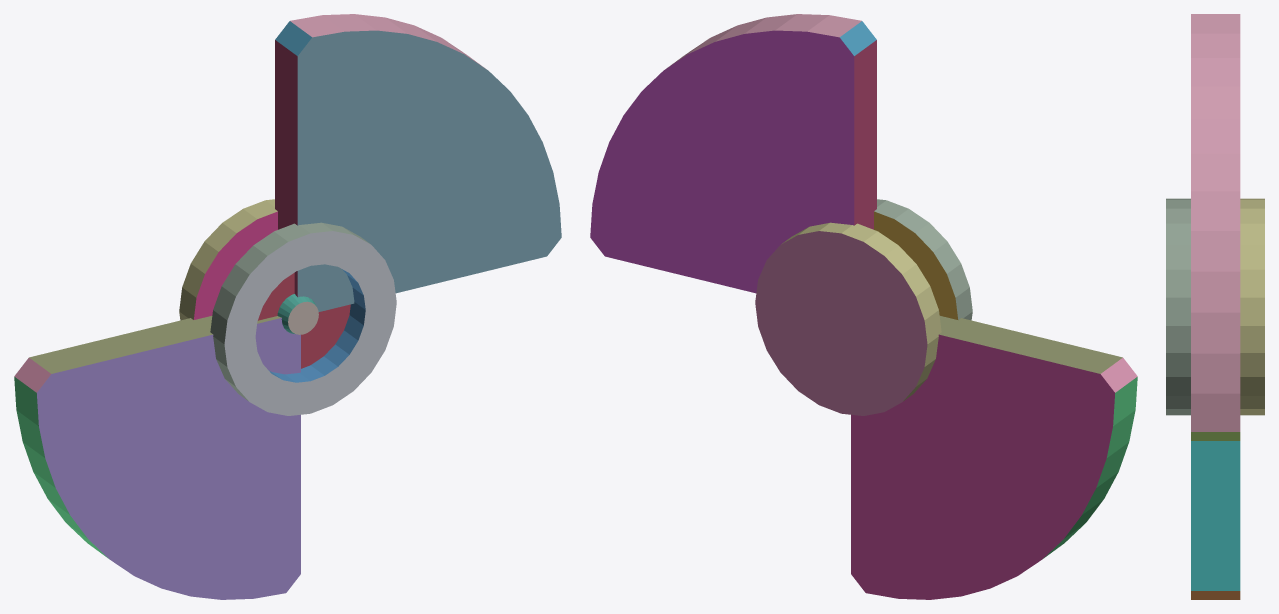
File: module-spring-01.glb
3 views of the same model, side by side, from view 1: azimuth 30°, elevation 25°; view 2: azimuth 150°, elevation 25°; view 3: azimuth 270°, elevation 25° (orthographic). The views are drawn at different scales.
Size of the model in its own units: 1.69 by 1.69 by 0.2525.
